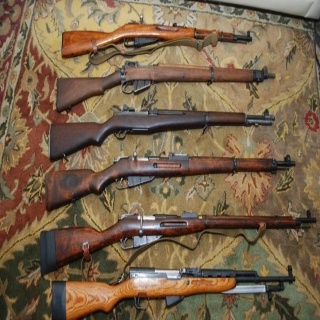rifle: (38, 212, 317, 276), (43, 151, 297, 209), (49, 265, 296, 320), (47, 107, 277, 161), (55, 62, 278, 113), (61, 19, 255, 66)
